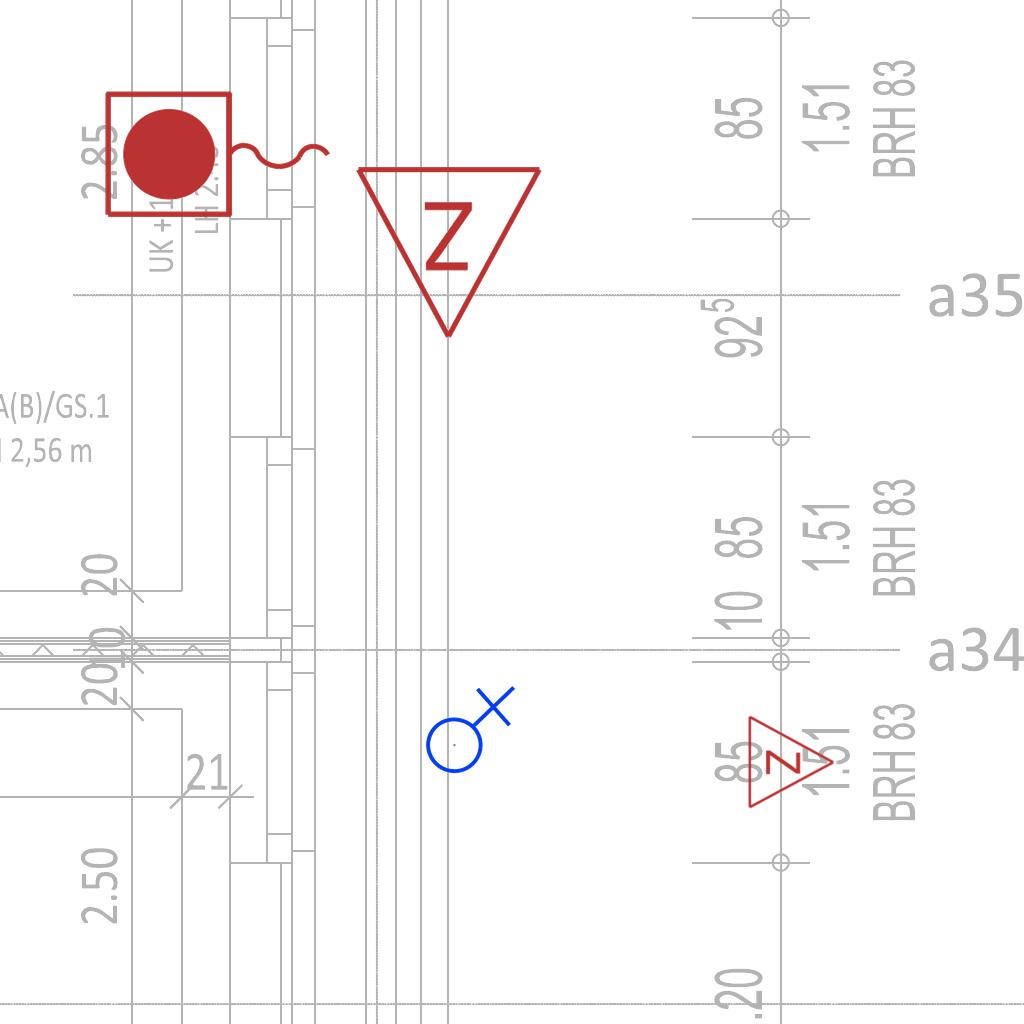Elektroanschluss_allgemein_230V_Geraeteanschlussdose_230V: (417, 681, 516, 775)
Zimmersignalleuchte: (353, 152, 549, 352), (741, 712, 841, 810)
Zugtaster: (97, 84, 341, 228)
